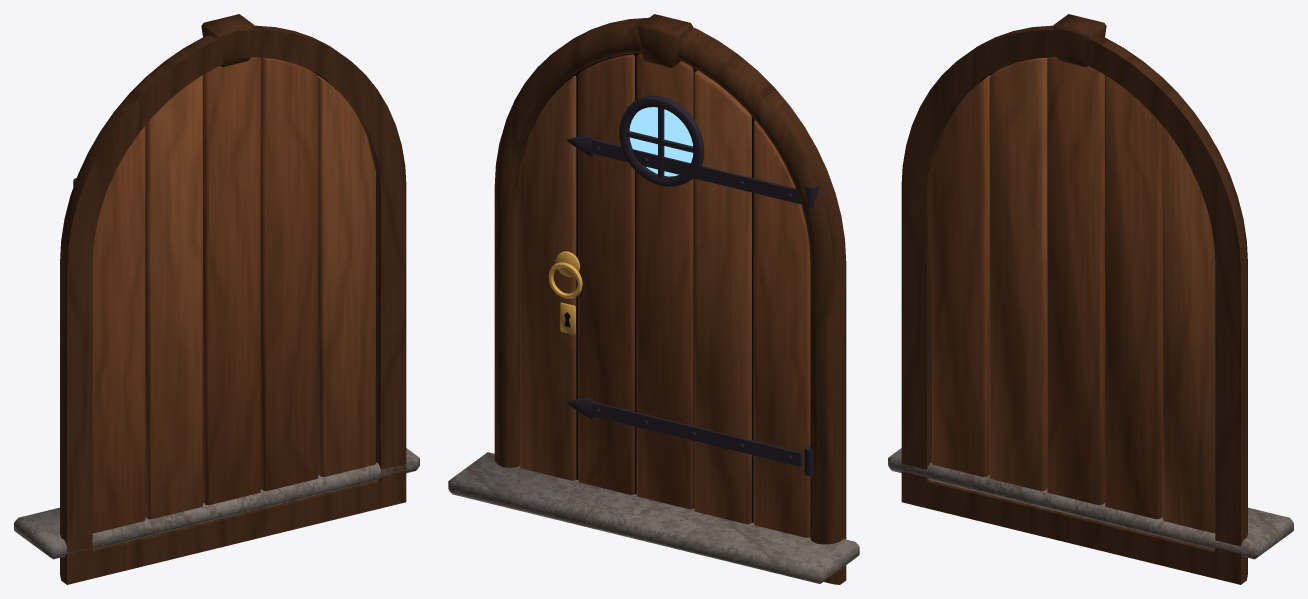
File: manor_door.glb
3 renders of one model, left to right at view 1: azimuth 30°, elevation 25°; view 2: azimuth 150°, elevation 25°; view 3: azimuth 330°, elevation 25°, orthographic.
Visible parts, largest first — view 1: Door; view 2: Door; view 3: Door.
Boxes of the visible parts, bbox=[...] form: Door: bbox=[14, 14, 419, 584]; Door: bbox=[448, 14, 859, 584]; Door: bbox=[888, 14, 1293, 584].
Bounding box in the file's own units: 1.08 × 1.43 × 0.2.
8 materials, 3 textured.
